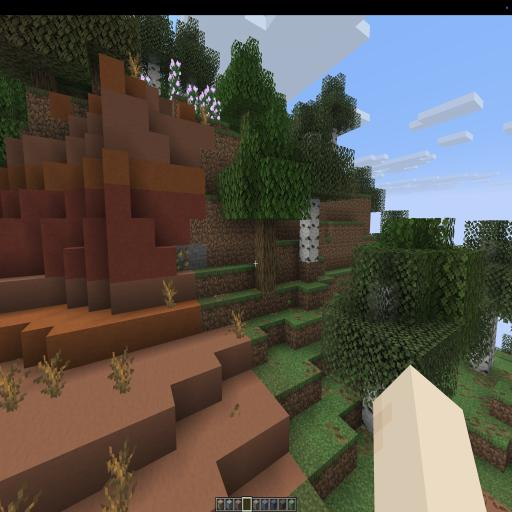gold ore: (173, 244, 194, 278)
